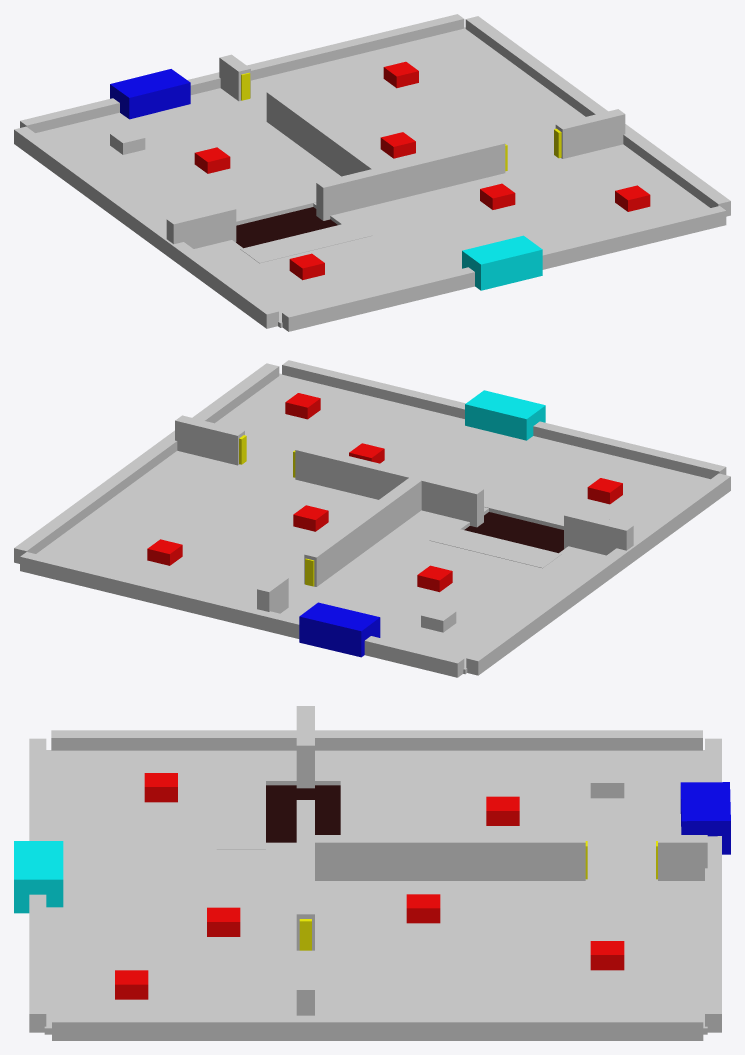
File: Level2_b3.fbx
The picture shows the model from 3 angles, top to bottom: view 1: azimuth 30°, elevation 25°; view 2: azimuth 150°, elevation 25°; view 3: azimuth 270°, elevation 25°; orthographic projection. The views are drawn at different scales.
Parts seen in each view (by area): view 1: Box001, Box016, Box005, Box013, Box014, Box015, Box009, Box002, Box004, Box006, Box024, Box026 (+10 smaller); view 2: Box001, Box014, Box013, Box005, Box016, Box015, Box009, Box004, Box002, Box006, Box024, Box025 (+9 smaller); view 3: Box001, Box015, Box013, Box009, Box016, Box014, Box026, Box027, Box002, Box025, Box004, Box005 (+10 smaller).
Part boxes in pixels (x1,y1,x2,y2): Box001: [35, 27, 710, 327]; Box016: [282, 206, 726, 331]; Box005: [316, 138, 505, 220]; Box013: [14, 126, 278, 328]; Box014: [20, 14, 464, 132]; Box015: [465, 16, 730, 216]; Box009: [266, 89, 383, 176]; Box002: [462, 235, 542, 290]; Box004: [110, 69, 190, 119]; Box006: [555, 109, 625, 158]; Box024: [166, 204, 236, 248]; Box026: [240, 221, 372, 263]; Box001: [36, 373, 710, 674]; Box014: [20, 552, 464, 677]; Box013: [466, 473, 730, 675]; Box005: [295, 445, 483, 527]; Box016: [282, 360, 726, 479]; Box015: [14, 363, 279, 563]; Box009: [304, 477, 423, 586]; Box004: [299, 602, 380, 657]; Box002: [465, 390, 545, 440]; Box006: [175, 415, 244, 465]; Box024: [564, 510, 633, 555]; Box025: [429, 526, 561, 568]; Box001: [44, 750, 707, 1034]; Box015: [52, 1014, 703, 1040]; Box013: [51, 730, 702, 750]; Box009: [309, 835, 585, 880]; Box016: [29, 738, 46, 1032]; Box014: [705, 738, 721, 1032]; Box026: [216, 778, 265, 849]; Box027: [266, 785, 340, 842]; Box002: [14, 841, 63, 913]; Box025: [340, 778, 390, 834]; Box004: [680, 782, 730, 854]; Box005: [296, 800, 314, 950].
Bounding box in the file's own units: 750 × 53.65 × 778.
